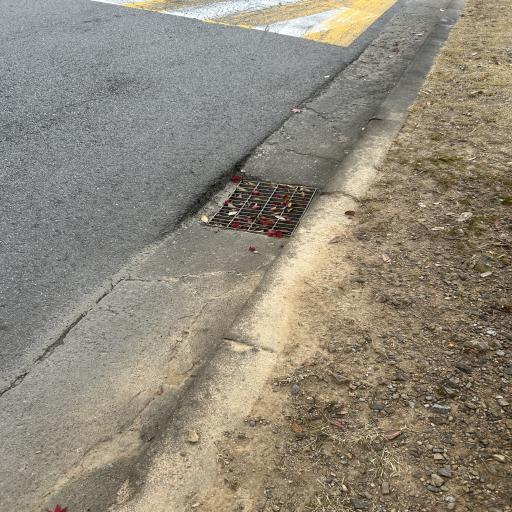debris: (246, 179, 309, 232), (229, 216, 251, 228), (283, 213, 296, 224), (263, 181, 271, 189), (225, 199, 233, 204), (230, 207, 238, 211), (236, 188, 241, 192)
drain: (208, 176, 318, 236)
